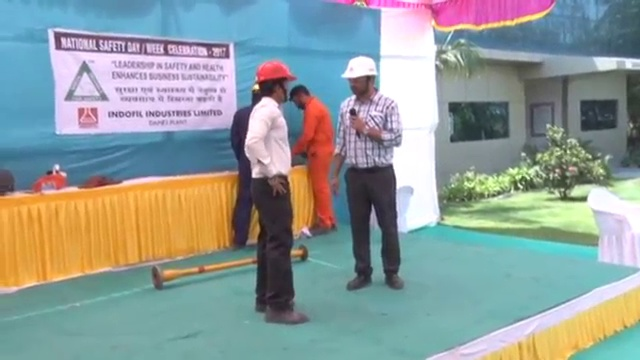helmet: (253, 60, 299, 84), (340, 54, 381, 80)
helmet_off: (288, 81, 314, 111)
helmet_on: (253, 58, 300, 107), (340, 54, 381, 102)
person: (332, 53, 407, 292), (244, 58, 311, 324), (288, 81, 338, 239), (228, 80, 261, 251)
